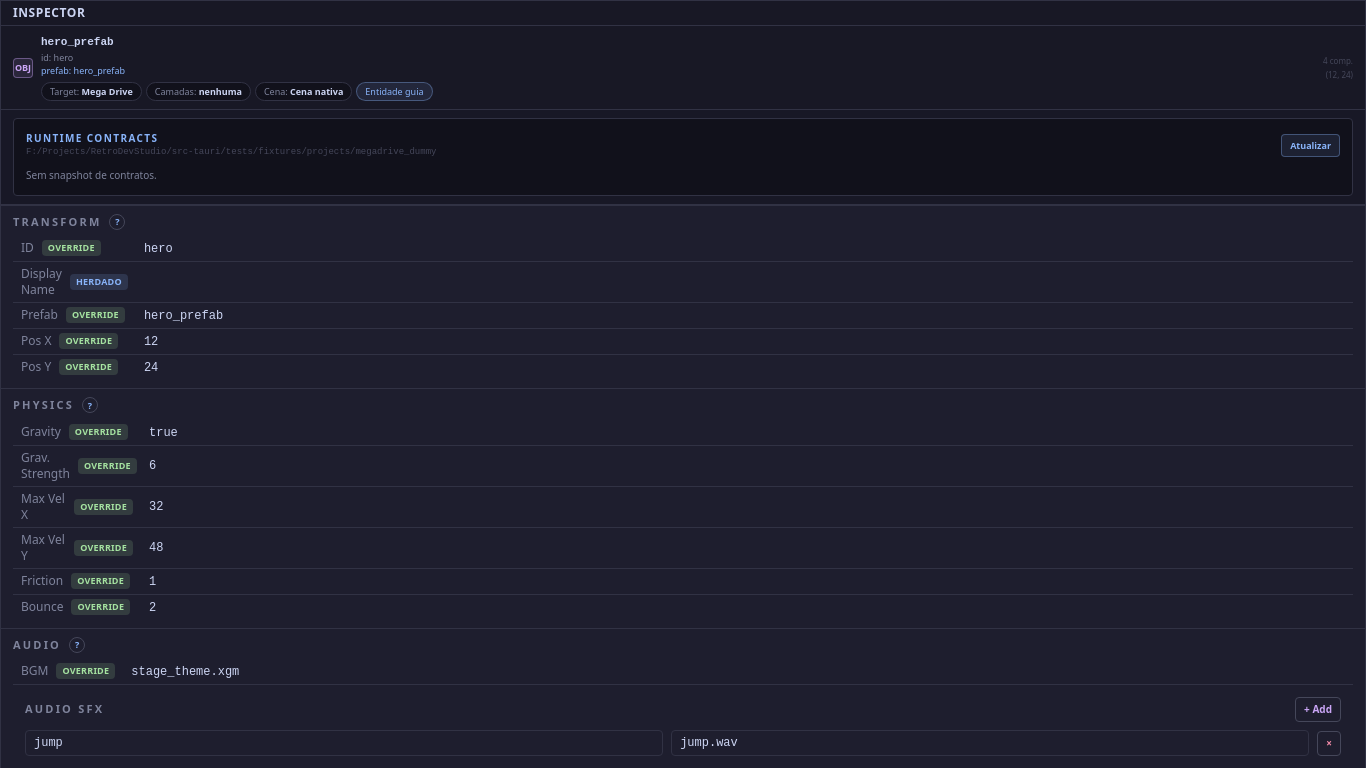
InspectorPanel › shows contextual knowledge tooltip for inspector sections
Click the button with test id "inspector-knowledge-physics" at (90, 405), box [82,397,98,413]
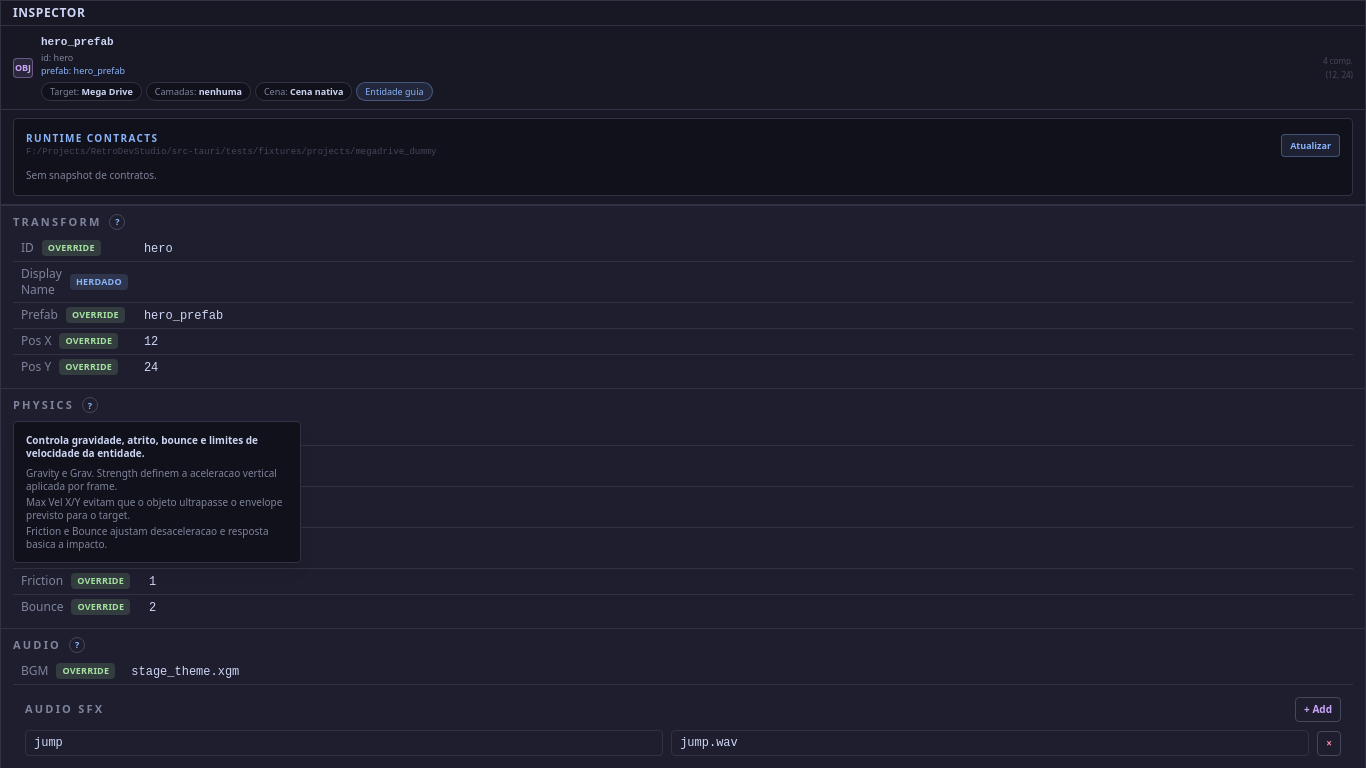
Expected: the text "Controla gravidade, atrito, bounce e limites de velocidade da entidade." is shown, [26,434,288,459]
Expected: the text "Gravity e Grav. Strength definem a aceleracao vertical aplicada por frame." is shown, [26,467,288,492]
